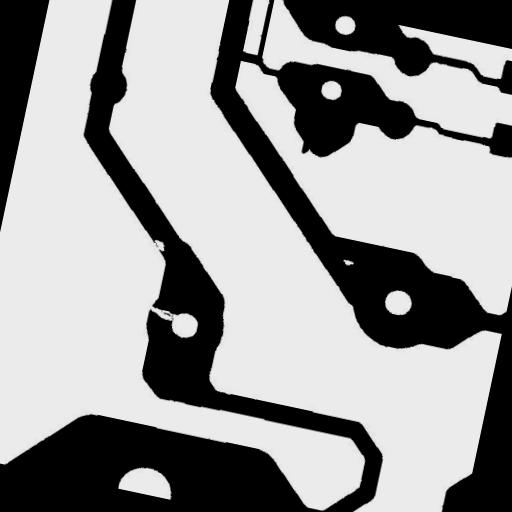mousebite: (142, 230, 175, 260)
open: (128, 292, 188, 330)
pin-hole: (332, 250, 362, 274)
short: (227, 41, 272, 74)
spur: (292, 128, 318, 162)
